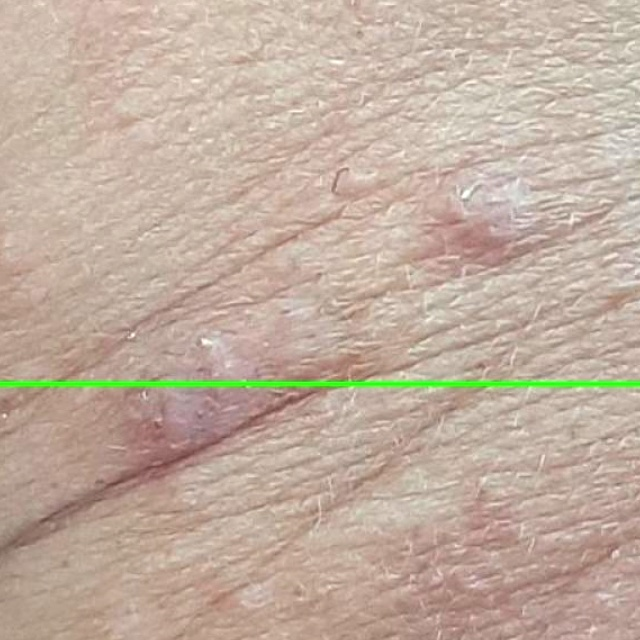Scabies: (0, 383, 639, 639)
